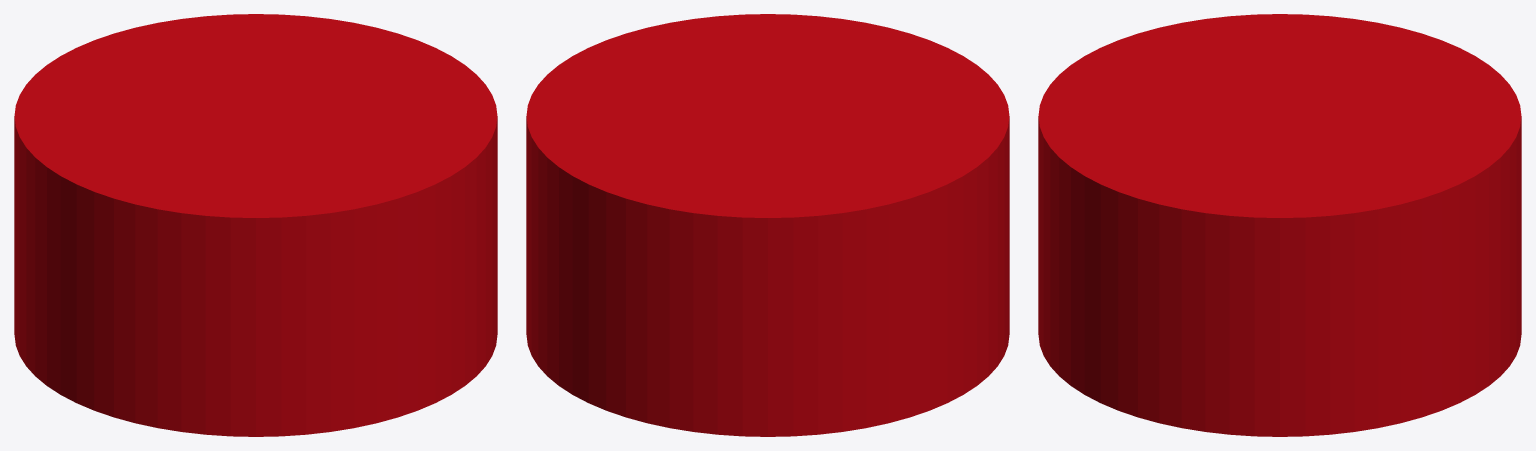
File: Button.fbx
The picture shows the model from 3 angles, left to right: view 1: azimuth 30°, elevation 25°; view 2: azimuth 150°, elevation 25°; view 3: azimuth 270°, elevation 25°; orthographic projection.
Parts seen in each view (by area): view 1: Cylinder; view 2: Cylinder; view 3: Cylinder.
Boxes of the visible parts, bbox=[...] form: Cylinder: bbox=[14, 14, 497, 436]; Cylinder: bbox=[526, 14, 1009, 436]; Cylinder: bbox=[1038, 14, 1521, 436].
Bounding box in the file's own units: 1 × 0.5 × 1.
